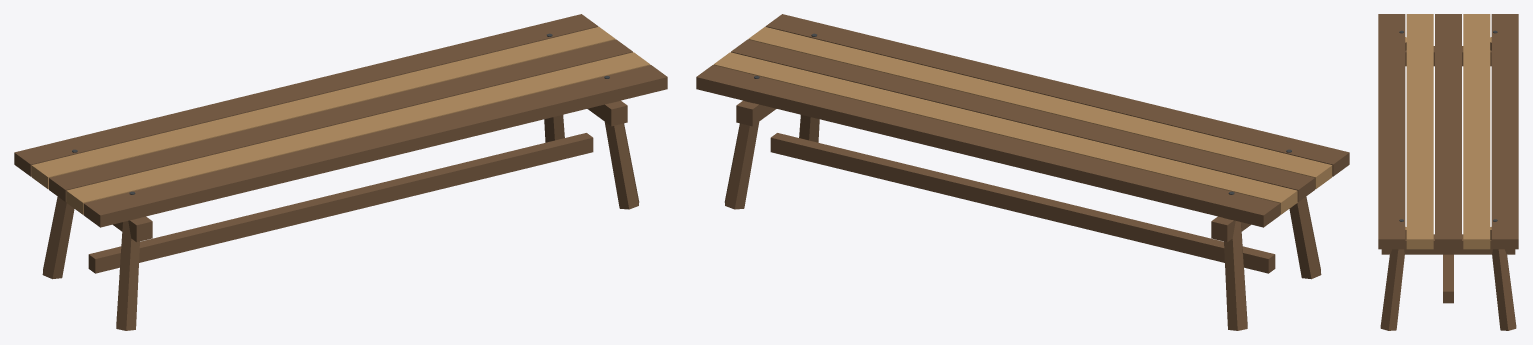
Rendered from workbench.glb.
3 views of the same model, side by side, from view 1: azimuth 30°, elevation 25°; view 2: azimuth 150°, elevation 25°; view 3: azimuth 270°, elevation 25° (orthographic). The views are drawn at different scales.
Parts seen in each view (by area): view 1: Workbench • pegged cedar trestles.001; view 2: Workbench • pegged cedar trestles.001; view 3: Workbench • pegged cedar trestles.001.
Part boxes in pixels (box(x1,y1,x2,y2)): Workbench • pegged cedar trestles.001: box(14, 14, 667, 330); Workbench • pegged cedar trestles.001: box(696, 14, 1349, 330); Workbench • pegged cedar trestles.001: box(1378, 14, 1518, 330).
Size of the model in its own units: 4.9 by 1.05 by 1.29.
